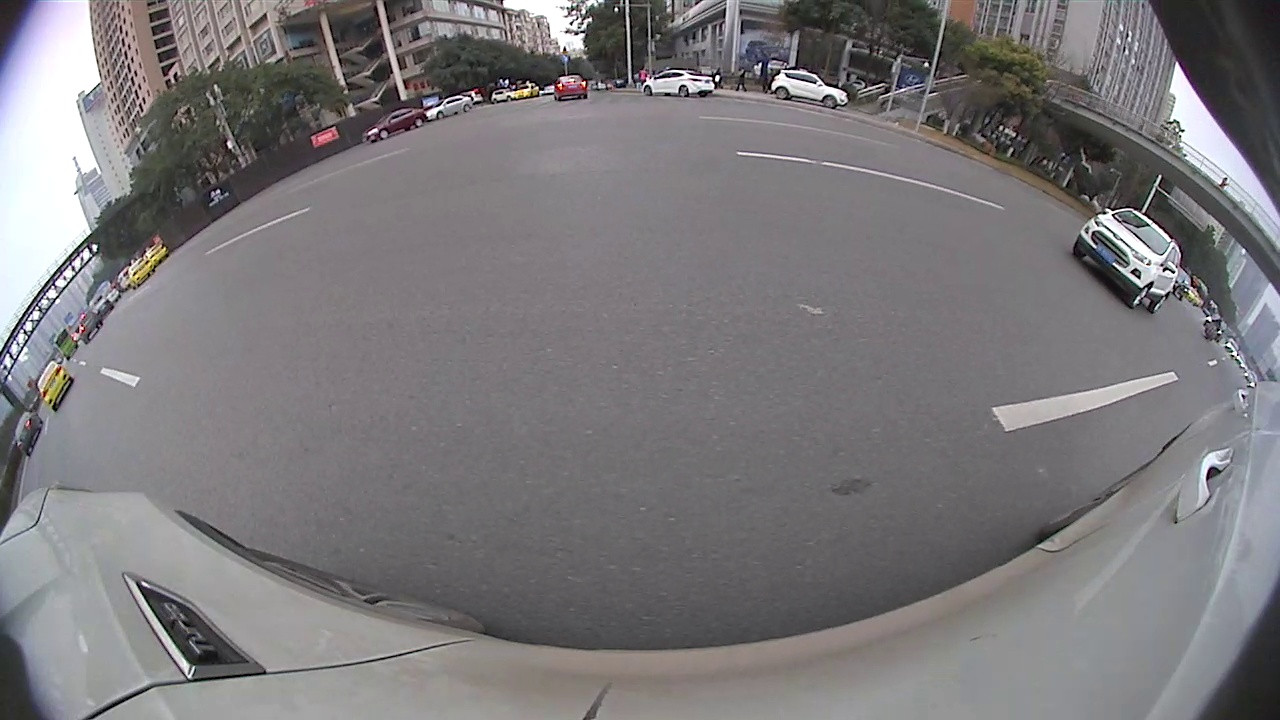car: (1071, 207, 1183, 317), (770, 68, 849, 113), (361, 106, 427, 147), (642, 69, 716, 101), (37, 358, 73, 413), (11, 411, 44, 459), (554, 72, 588, 104)
front: (1124, 284, 1152, 310), (823, 96, 836, 107), (643, 86, 652, 96)
rear: (1150, 293, 1169, 312), (776, 87, 788, 99), (679, 87, 688, 97)
